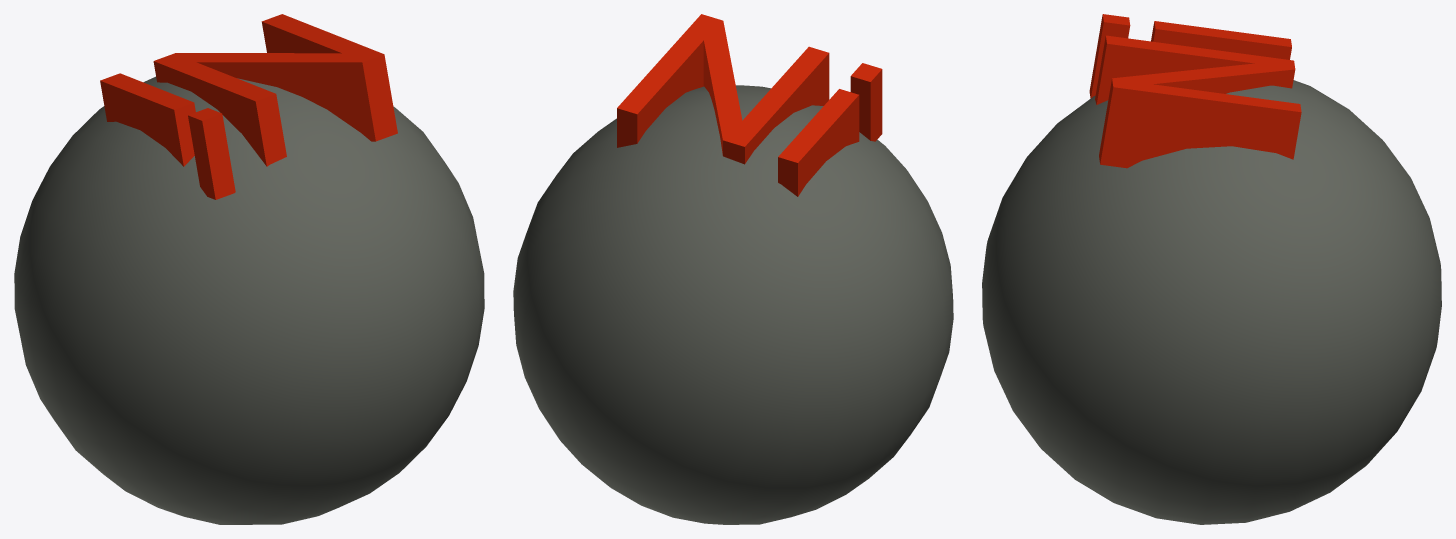
The picture shows the model from 3 angles, left to right: view 1: azimuth 30°, elevation 25°; view 2: azimuth 150°, elevation 25°; view 3: azimuth 270°, elevation 25°; orthographic projection. The views are drawn at different scales.
Parts seen in each view (by area): view 1: Ni; view 2: Ni; view 3: Ni.
Part boxes in pixels (x1,y1,x2,y2): Ni: (14, 14, 484, 524); Ni: (513, 14, 953, 524); Ni: (982, 14, 1441, 524).
Bounding box in the file's own units: 38.63 × 42.23 × 38.6.
